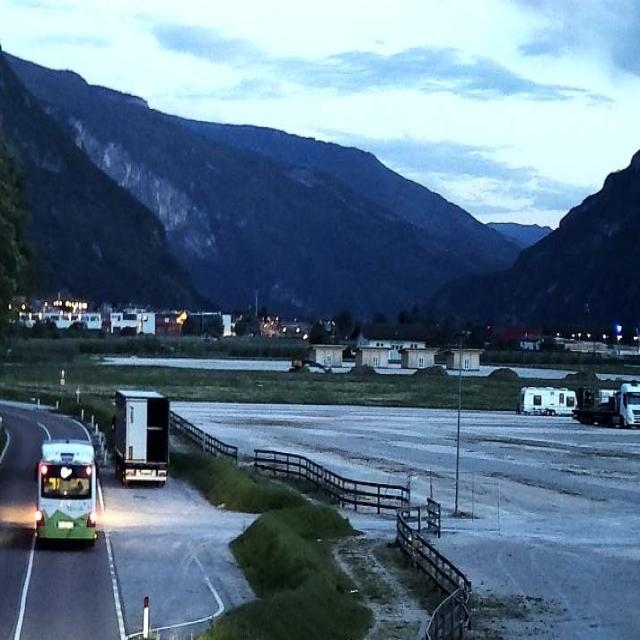bus: (36, 438, 98, 545)
van: (114, 390, 172, 489), (572, 382, 640, 429)
